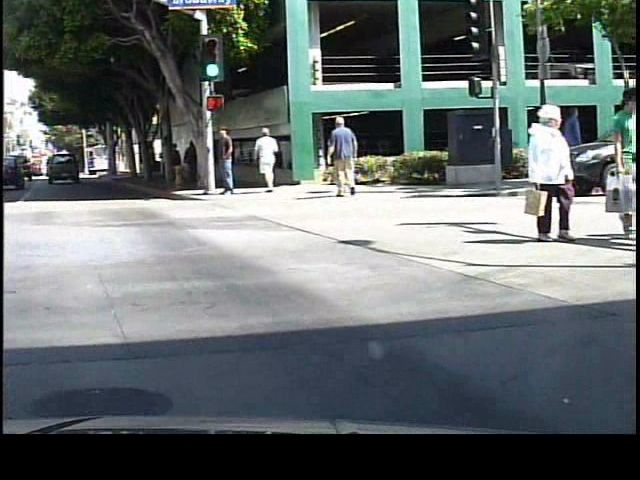person: (518, 100, 580, 248), (603, 89, 637, 242), (329, 115, 363, 197), (218, 125, 248, 207), (556, 104, 583, 183), (255, 124, 283, 196), (183, 137, 203, 189), (169, 142, 185, 188)
